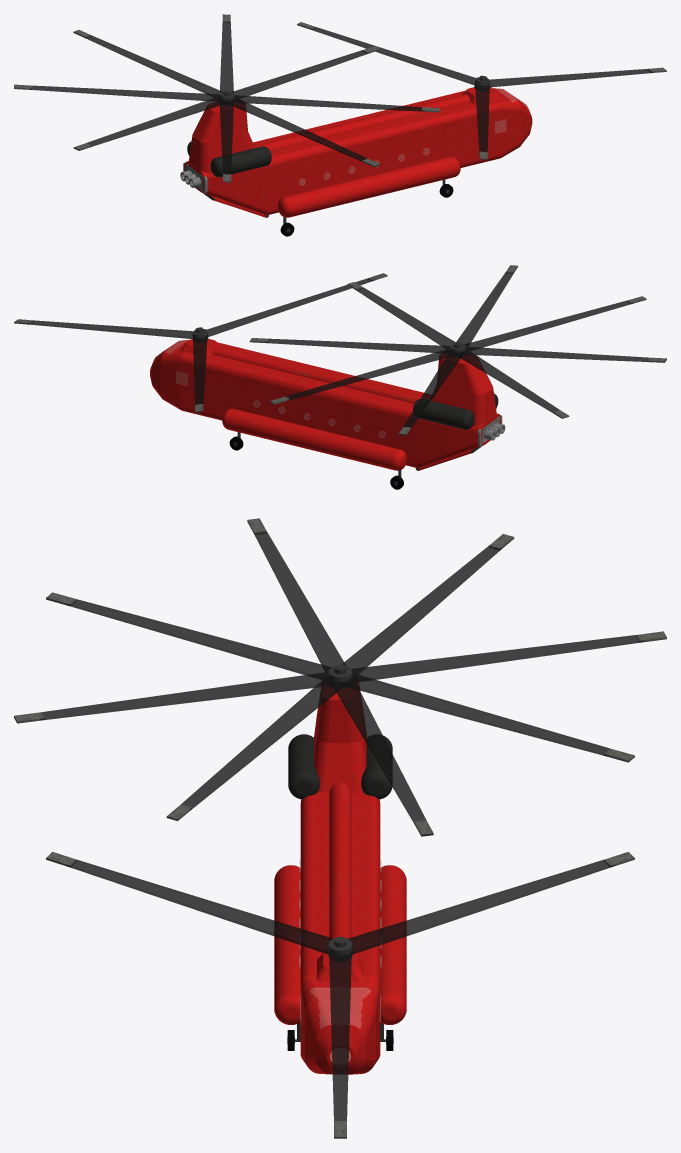
The model's file is Military_helicopter__2321.glb.
3 views of the same model, one above another, from view 1: azimuth 30°, elevation 25°; view 2: azimuth 150°, elevation 25°; view 3: azimuth 270°, elevation 25° (orthographic). The views are drawn at different scales.
Parts seen in each view (by area): view 1: fuselage::hull, fuselage::right_sponson, fuselage::rear_pylon, fuselage::spine_fairing, rear_rotor::blade_2, rear_rotor::blade_6, fuselage::right_engine_nacelle, rear_rotor::blade_5, rear_rotor::blade_3, rear_rotor::blade_1, front_rotor::blade_0, rear_rotor::blade_7 (+6 smaller); view 2: fuselage::hull, fuselage::left_sponson, fuselage::rear_pylon, fuselage::spine_fairing, rear_rotor::blade_3, rear_rotor::blade_7, rear_rotor::blade_0, fuselage::left_engine_nacelle, rear_rotor::blade_4, front_rotor::blade_0, front_rotor::blade_2, rear_rotor::blade_2 (+6 smaller); view 3: fuselage::hull, fuselage::rear_pylon, fuselage::left_sponson, fuselage::right_sponson, front_rotor::blade_1, front_rotor::blade_2, fuselage::spine_fairing, rear_rotor::blade_5, rear_rotor::blade_1, rear_rotor::blade_0, rear_rotor::blade_4, front_rotor::blade_0 (+8 smaller).
Boxes of the visible parts, x1,y1,x2,y2 form: fuselage::hull: (184, 88, 532, 215); fuselage::right_sponson: (277, 156, 460, 217); fuselage::rear_pylon: (188, 102, 254, 174); fuselage::spine_fairing: (254, 94, 470, 151); rear_rotor::blade_2: (29, 85, 221, 101); rear_rotor::blade_6: (232, 95, 424, 111); fuselage::right_engine_nacelle: (210, 146, 271, 177); rear_rotor::blade_5: (225, 97, 379, 166); rear_rotor::blade_3: (74, 96, 227, 150); rear_rotor::blade_1: (84, 35, 222, 97); front_rotor::blade_0: (489, 69, 653, 87); rear_rotor::blade_7: (231, 50, 369, 98); fuselage::hull: (150, 340, 500, 468); fuselage::left_sponson: (222, 408, 406, 470); fuselage::rear_pylon: (430, 354, 497, 426); fuselage::spine_fairing: (212, 346, 429, 403); rear_rotor::blade_3: (461, 346, 666, 361); rear_rotor::blade_7: (264, 338, 451, 353); rear_rotor::blade_0: (286, 348, 456, 400); fuselage::left_engine_nacelle: (413, 399, 474, 429); rear_rotor::blade_4: (465, 300, 633, 350); front_rotor::blade_0: (27, 320, 192, 338); front_rotor::blade_2: (207, 278, 374, 336); rear_rotor::blade_2: (455, 349, 559, 413); fuselage::hull: (300, 791, 380, 1074); fuselage::rear_pylon: (314, 683, 366, 792); fuselage::left_sponson: (380, 865, 406, 1024); fuselage::right_sponson: (274, 865, 300, 1024); front_rotor::blade_1: (348, 859, 614, 954); front_rotor::blade_2: (66, 859, 332, 954); fuselage::spine_fairing: (329, 782, 351, 939); rear_rotor::blade_5: (14, 672, 335, 722); rear_rotor::blade_1: (350, 635, 644, 682); rear_rotor::blade_0: (341, 673, 610, 756); rear_rotor::blade_4: (66, 599, 331, 679); front_rotor::blade_0: (329, 952, 351, 1138).
Bounding box in the file's own units: 29.9 × 6.96 × 17.38.
Materials: 10 (7 with a texture image).
